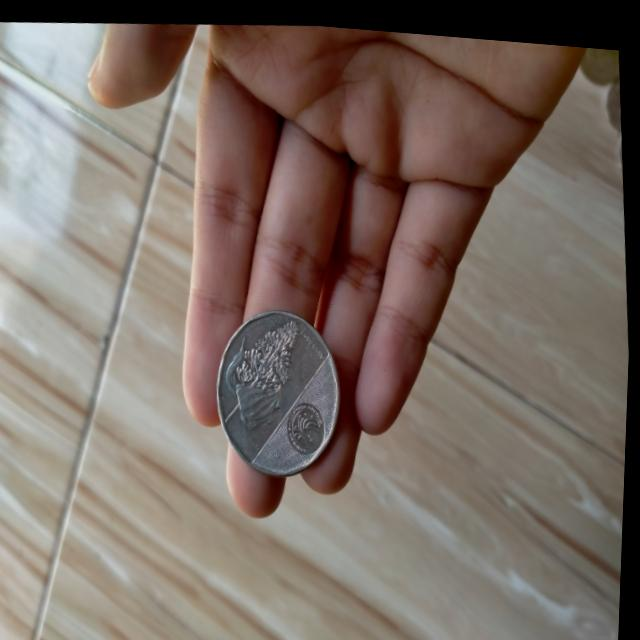10_New_Back: (210, 304, 314, 430)
